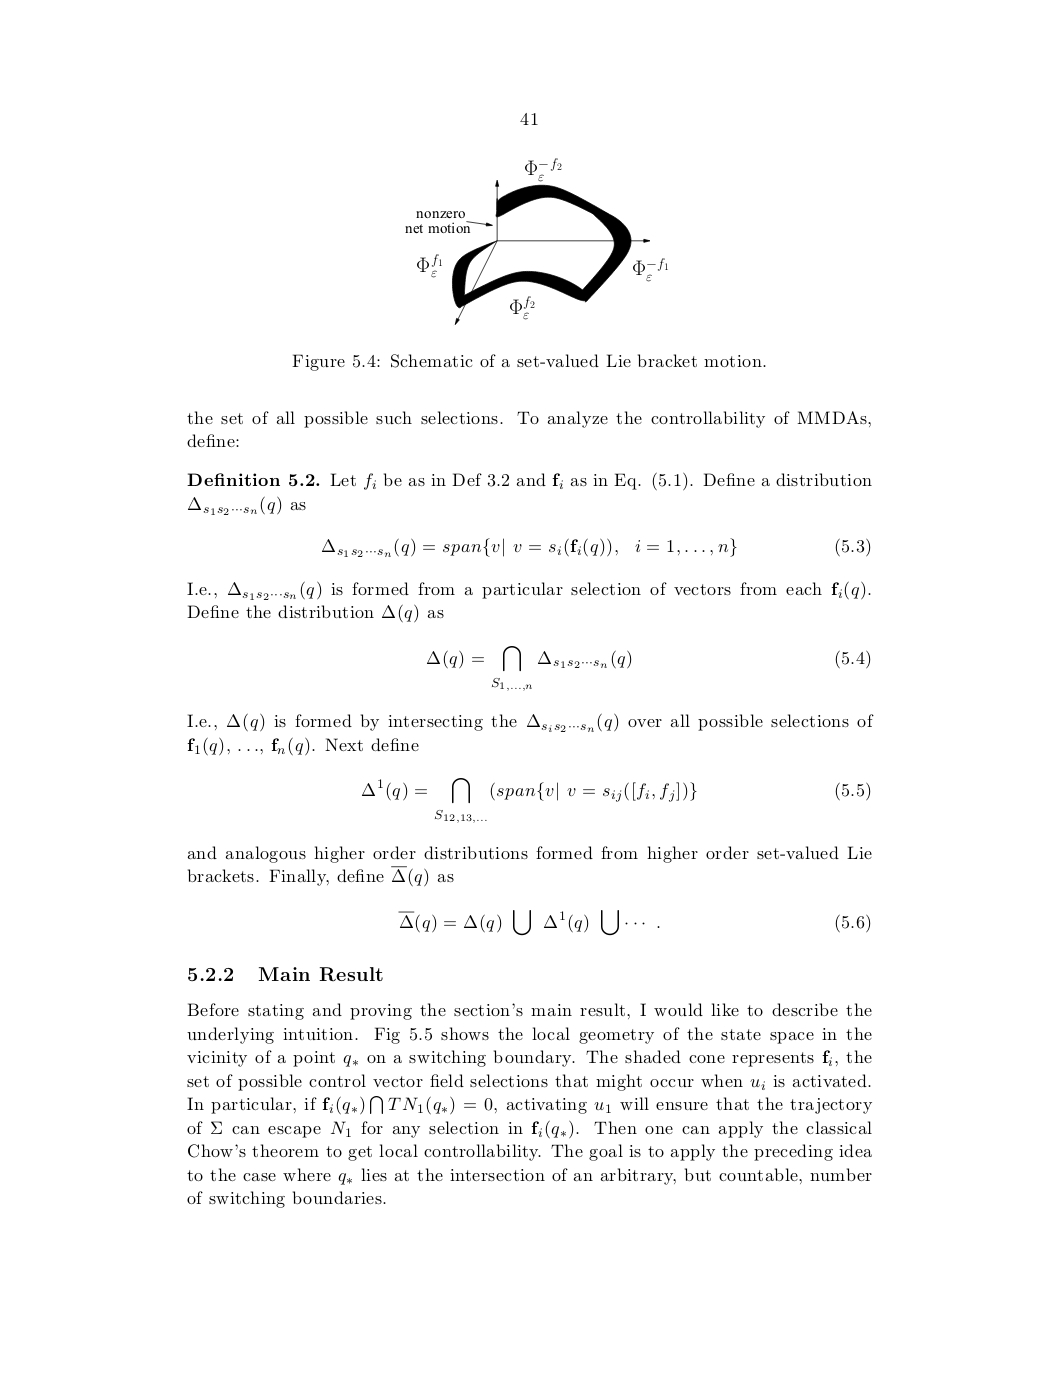figure: (405, 157, 666, 325)
formula: (362, 778, 870, 822), (427, 646, 870, 690), (398, 909, 870, 936), (322, 537, 870, 557)
